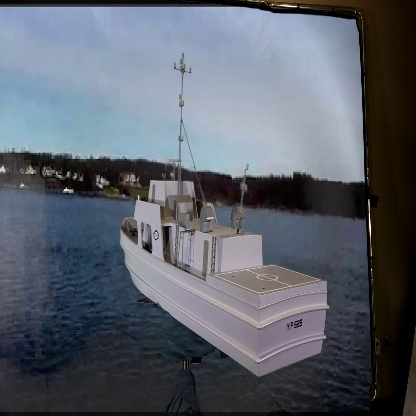YP689: (118, 52, 329, 382)
